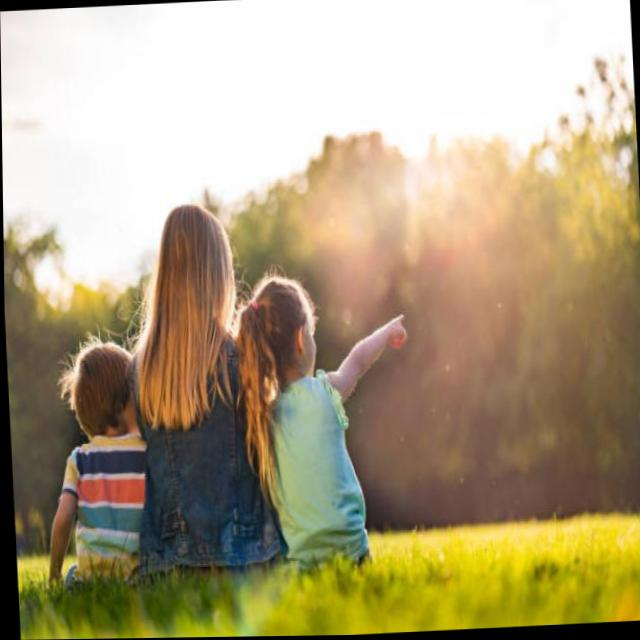no helmet: (145, 183, 237, 331)
